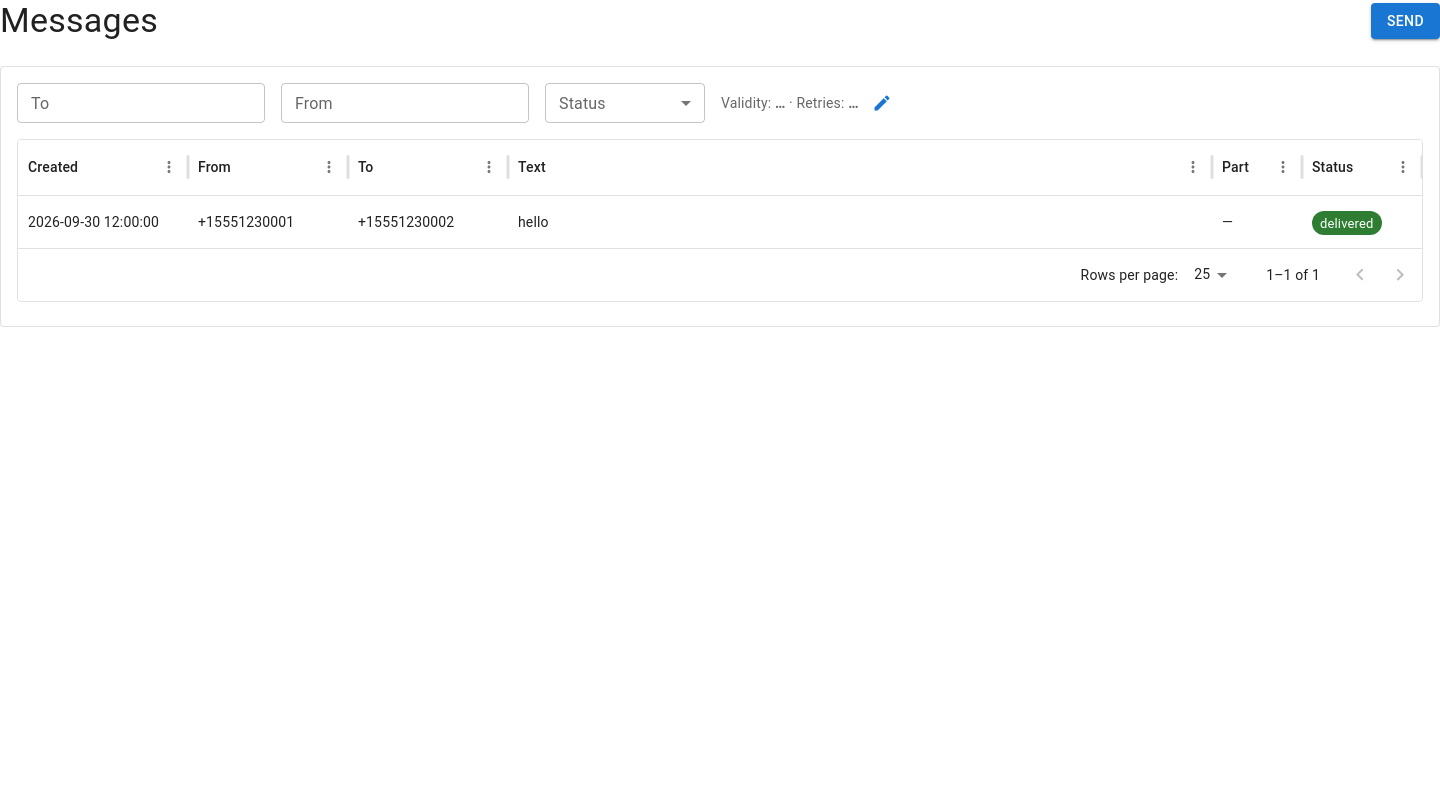
Test: Messages › opens the message detail when a row is clicked
Click the text "hello". click: (533, 222)
box: [518, 214, 549, 230]
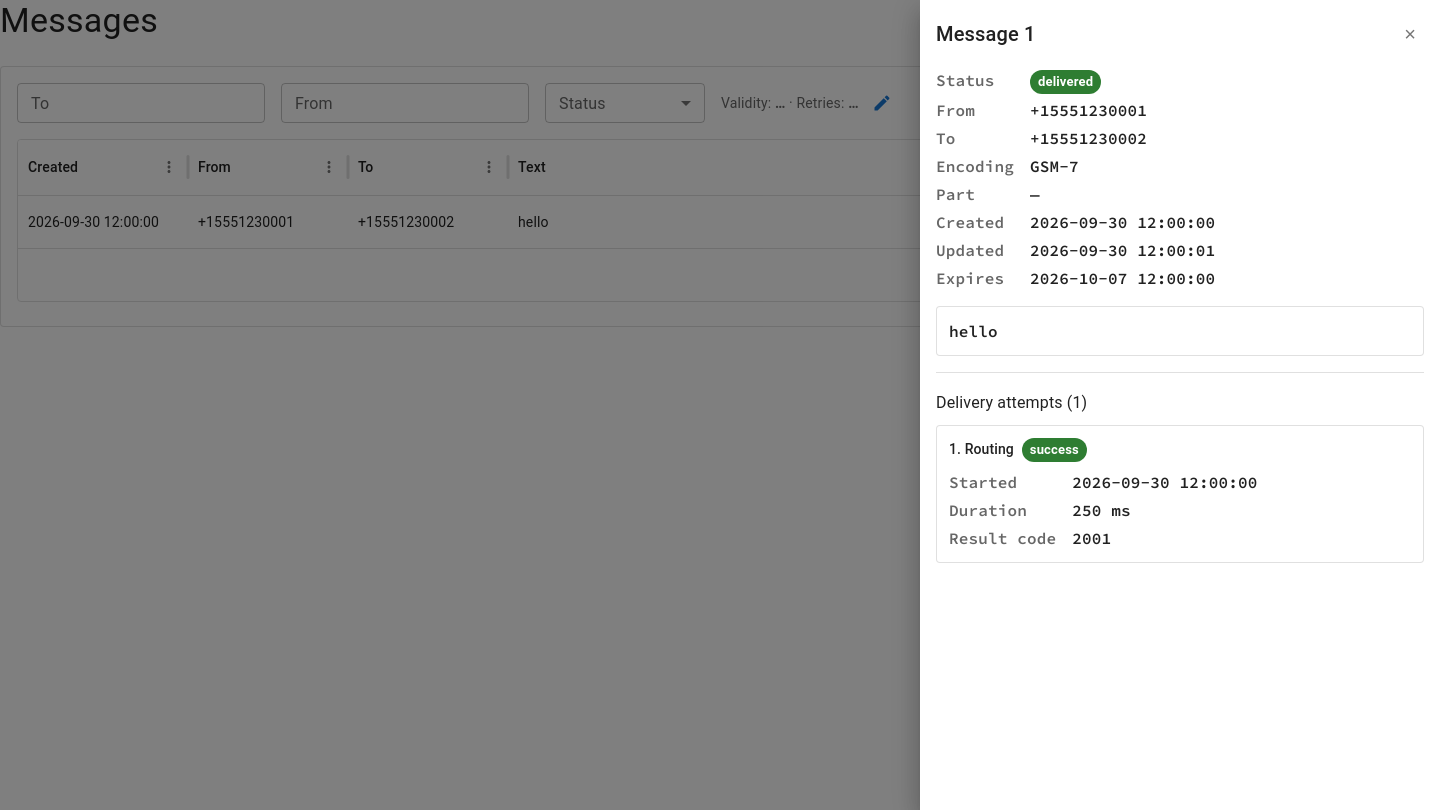
Check: the heading "Delivery attempts (1)" is shown, box [936, 393, 1087, 412]
Click the button named "Close". click: (1410, 34)
box: [1396, 16, 1424, 52]
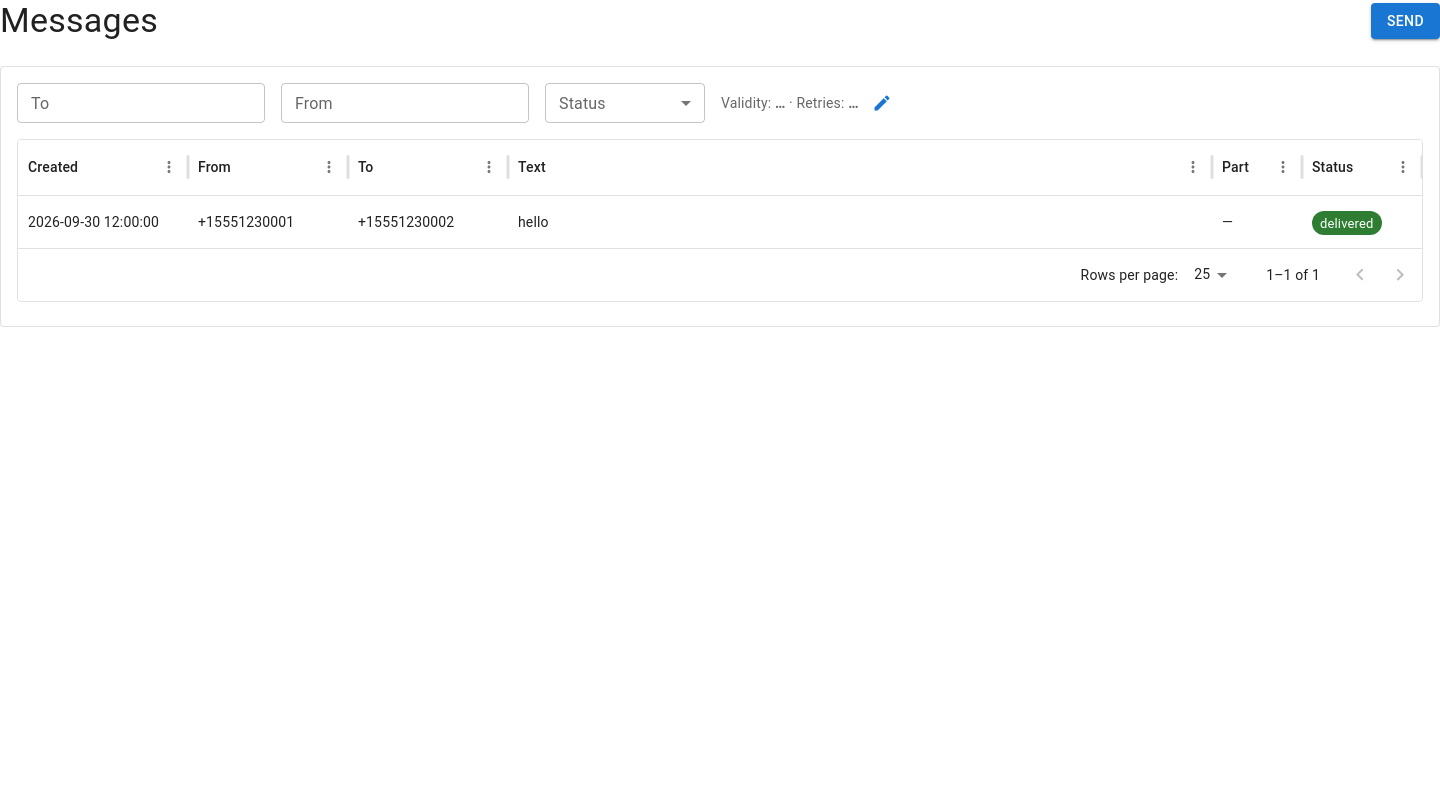
Check: the dialog is gone
